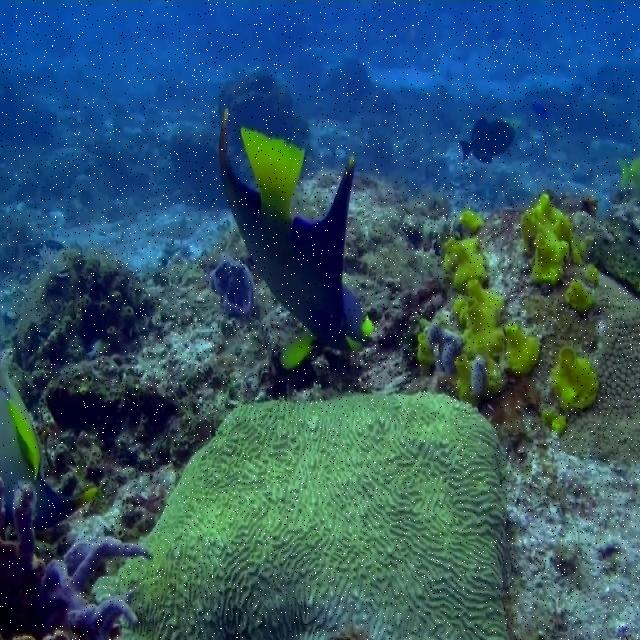fish: (218, 107, 376, 371)
reefs: (92, 392, 511, 638), (419, 209, 541, 402), (0, 482, 148, 638), (518, 193, 592, 290)
